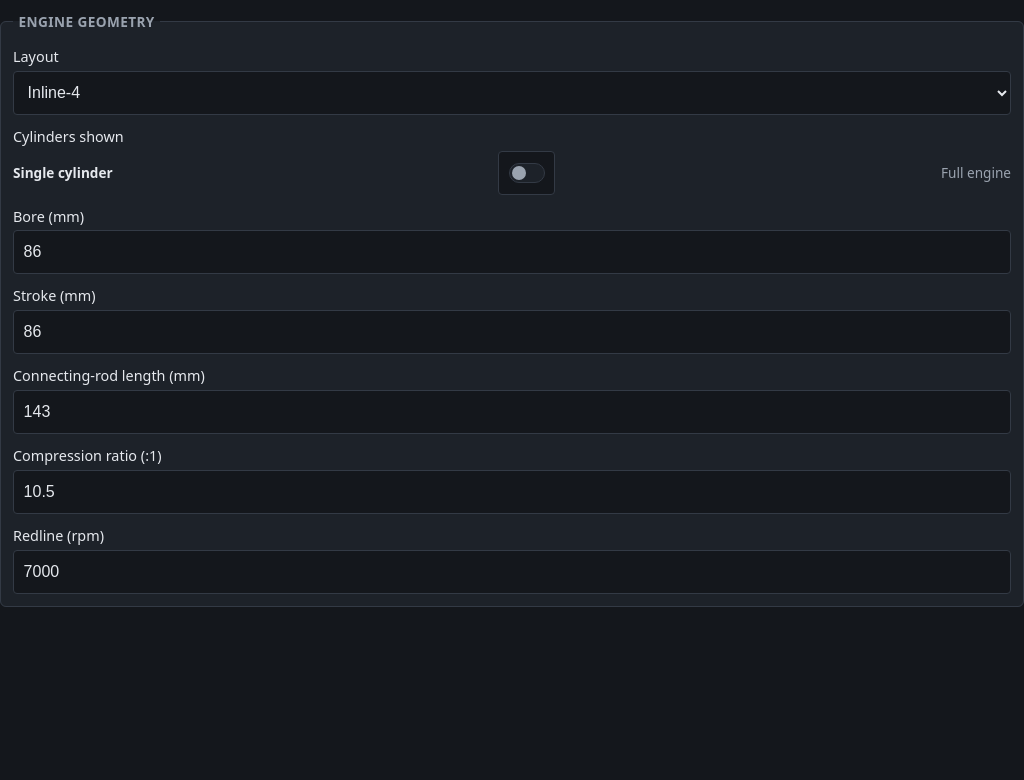
Scenario: EngineGeometryControls › shows a validation message and does not update the store for a rod length at or below the crank radius
Replace the text in the number field labelled "Connecting-rod length (mm)" with "40" at (512, 412), box 13,390 -> 1011,434
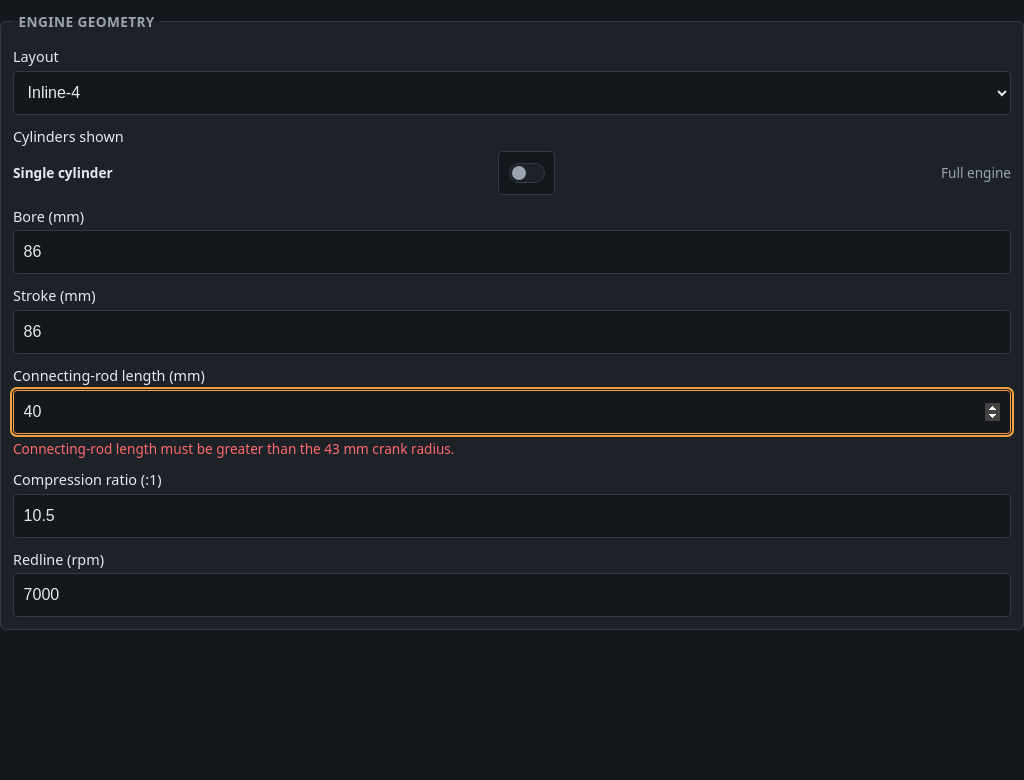
Expected: the message shows "crank radius", 13,439 -> 454,458
